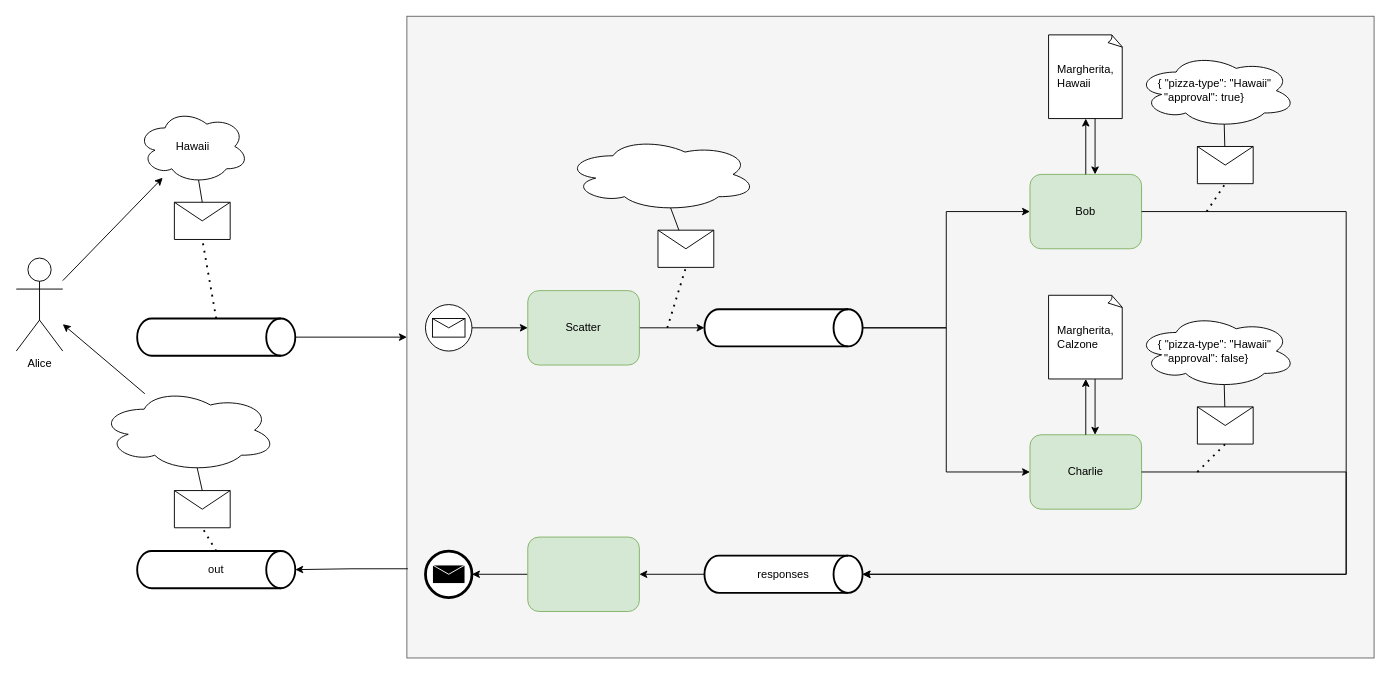
Some shapes in this 1390 by 674 pixel diagram are drawn without their labels. Here are the shapes that lost their labels. From the top down, the box of each, then its label:
(564, 136, 757, 212): { "pizza-type": "Hawaii" }
(136, 317, 296, 356): in
(703, 308, 863, 347): suggestions
(99, 387, 277, 472): Nicht alle Freunde sind mit Hawaii einverstanden
(527, 536, 639, 611): Gather
